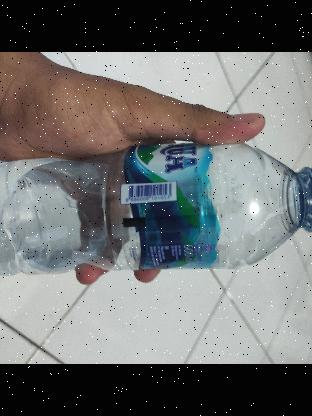Plastic Bottle: (0, 128, 312, 299)
